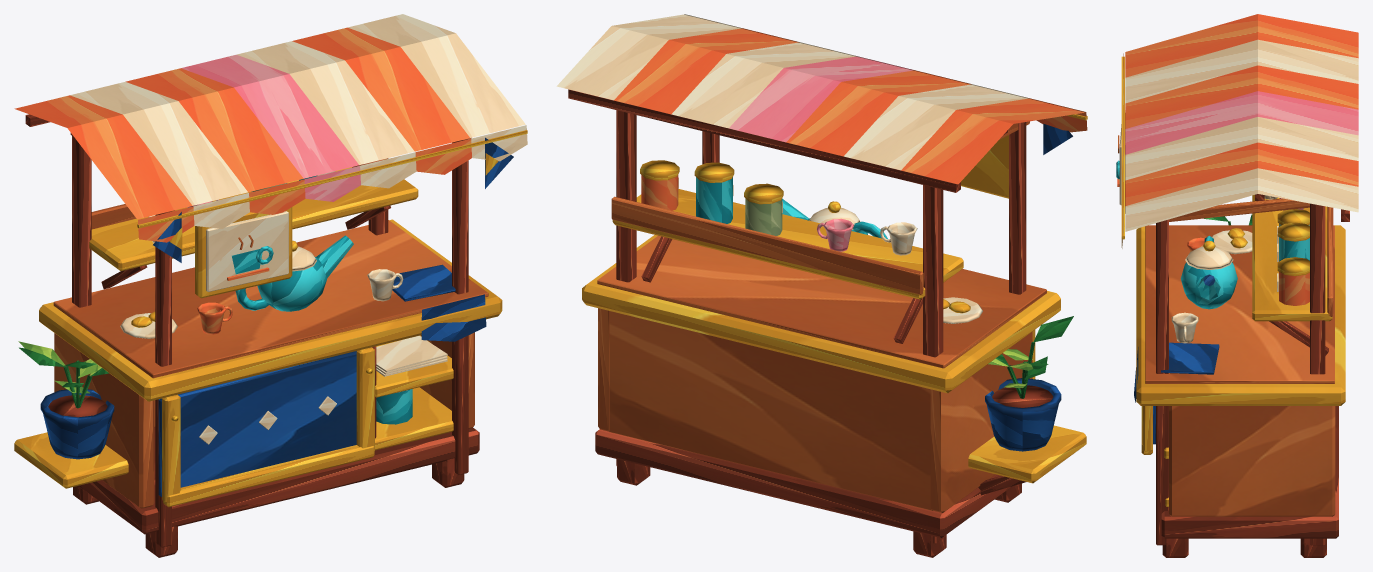
The model's file is prior-tea_kiosk-01.glb.
The picture shows the model from 3 angles, left to right: view 1: azimuth 30°, elevation 25°; view 2: azimuth 150°, elevation 25°; view 3: azimuth 270°, elevation 25°; orthographic projection. The views are drawn at different scales.
Visible parts, largest first — view 1: tea_kiosk; view 2: tea_kiosk; view 3: tea_kiosk.
Part boxes in pixels (x1=…): tea_kiosk: x1=14, y1=14, x2=527, y2=557; tea_kiosk: x1=556, y1=14, x2=1087, y2=557; tea_kiosk: x1=1116, y1=14, x2=1358, y2=557.
Size of the model in its own units: 2.5 by 2.27 by 1.3.
3 materials, 3 textured.
